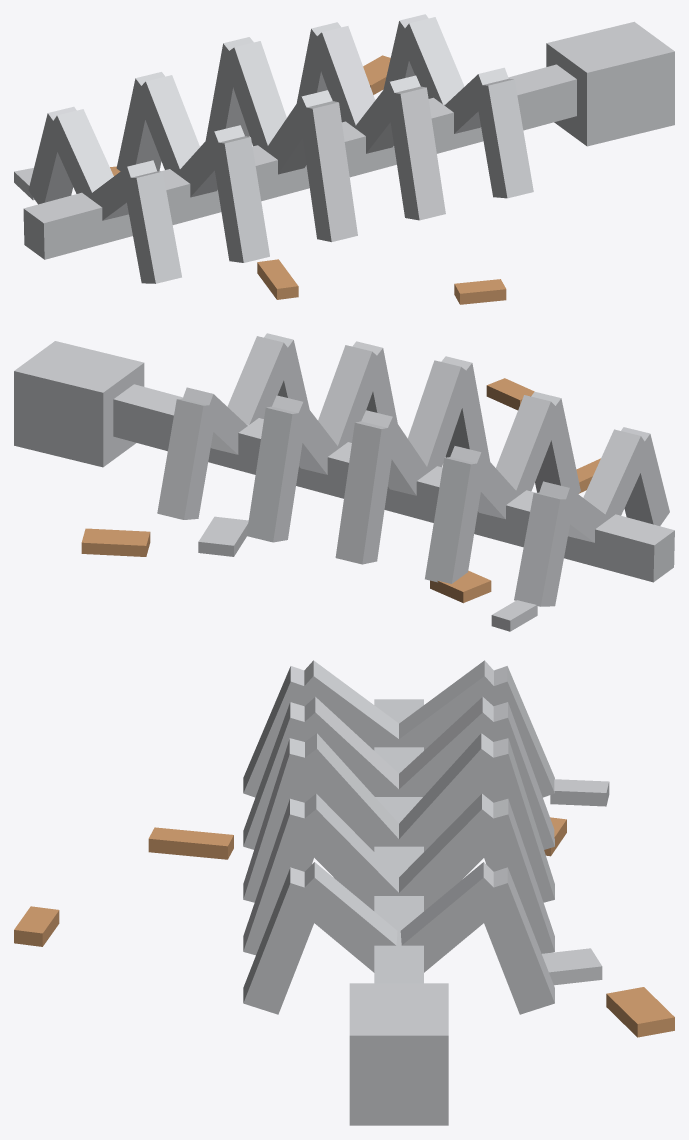
File: RibBones.fbx
The picture shows the model from 3 angles, top to bottom: view 1: azimuth 30°, elevation 25°; view 2: azimuth 150°, elevation 25°; view 3: azimuth 270°, elevation 25°; orthographic projection. The views are drawn at different scales.
Visible parts, largest first — view 1: Bone, SandDark.002; view 2: Bone, SandDark.002; view 3: Bone, SandDark.002.
Boxes of the visible parts, x1=… form: Bone: x1=14, y1=14, x2=674, y2=283; SandDark.002: x1=110, y1=55, x2=506, y2=304; Bone: x1=14, y1=333, x2=674, y2=631; SandDark.002: x1=81, y1=378, x2=600, y2=603; Bone: x1=243, y1=660, x2=609, y2=1125; SandDark.002: x1=14, y1=817, x2=674, y2=1037.
Bounding box in the file's own units: 14.13 × 2.89 × 10.66.
